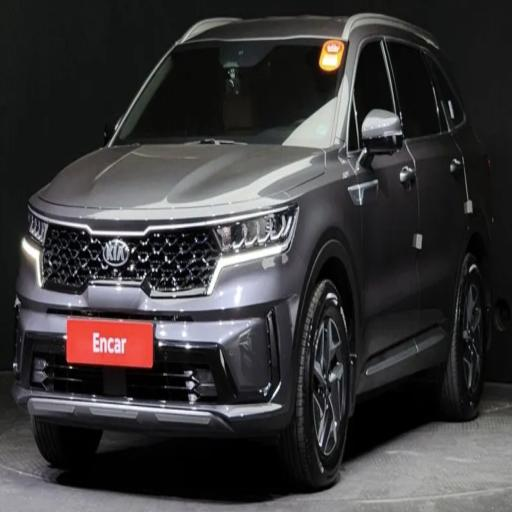normal: (28, 4, 504, 512)
